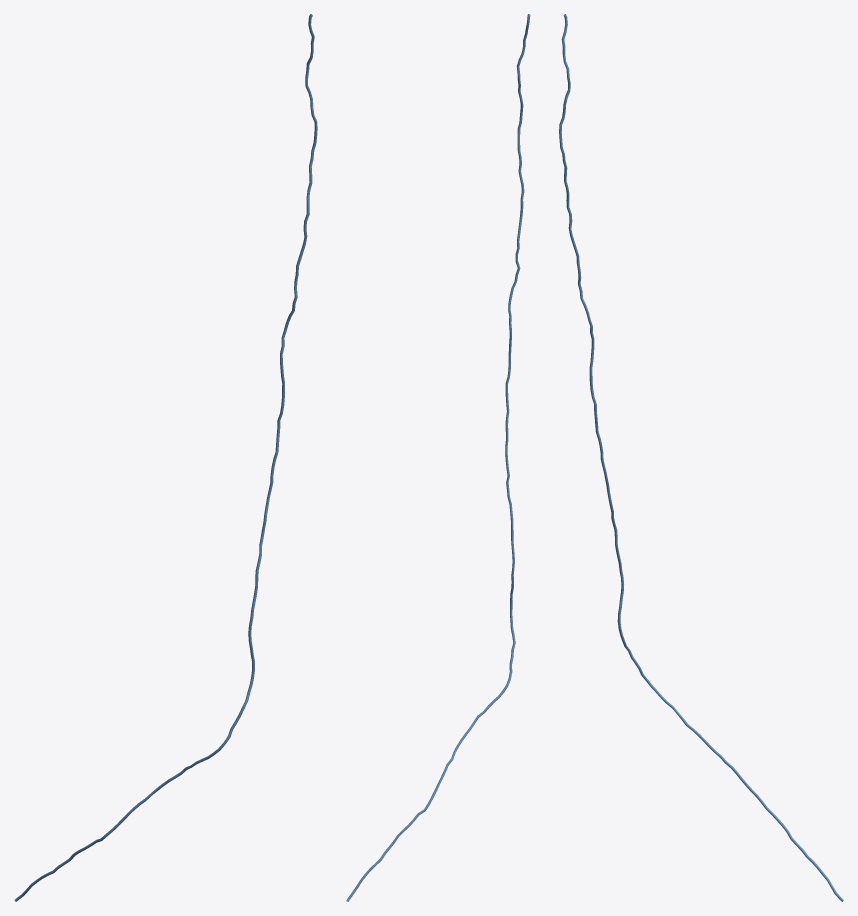
Rendered from sweep15.fbx.
The picture shows the model from 3 angles, left to right: view 1: azimuth 90°, elevation 25°; view 2: azimuth 150°, elevation 25°; view 3: azimuth 270°, elevation 25°; orthographic projection. The views are drawn at different scales.
Parts seen in each view (by area): view 1: sweep15; view 2: sweep15; view 3: sweep15.
Boxes of the visible parts, left/top/right/bottom form: sweep15: left=14, top=14, right=317, bottom=901; sweep15: left=346, top=14, right=530, bottom=901; sweep15: left=559, top=14, right=843, bottom=901.
Bounding box in the file's own units: 0.6402 × 6.79 × 2.04.
